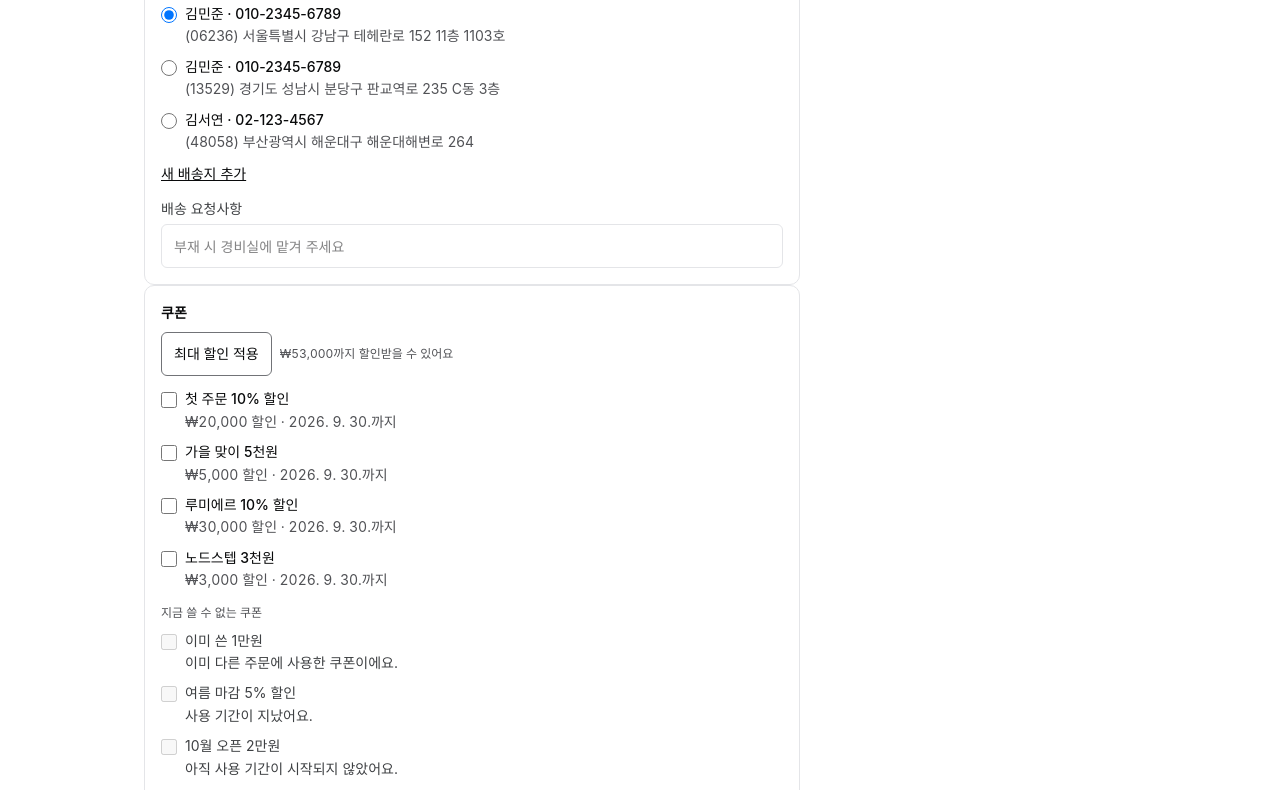
중복 규칙이 화면에서 보인다 › swaps one platform coupon for the other
(page scrolled)
What coordinates should you click on to do the following:
click the checkbox labelled "첫 주문 10% 할인 ₩20,000 할인 · 2026. 9. 30.까지"
I would click on:
 (169, 400)
Its box is [161,392,177,408].
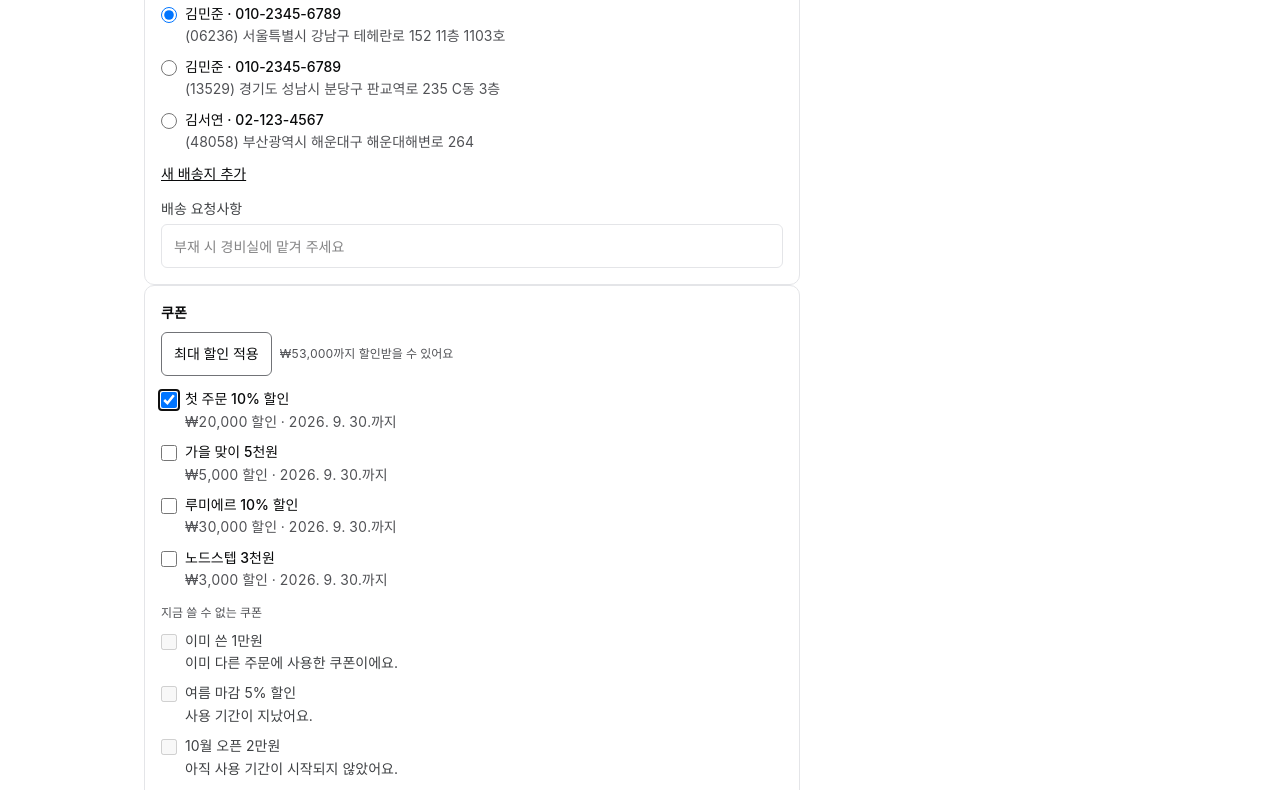
What coordinates should you click on to do the following:
click the checkbox labelled "가을 맞이 5천원 ₩5,000 할인 · 2026. 9. 30.까지"
I would click on:
 (169, 453)
Its box is [161,445,177,461].
(page scrolled)
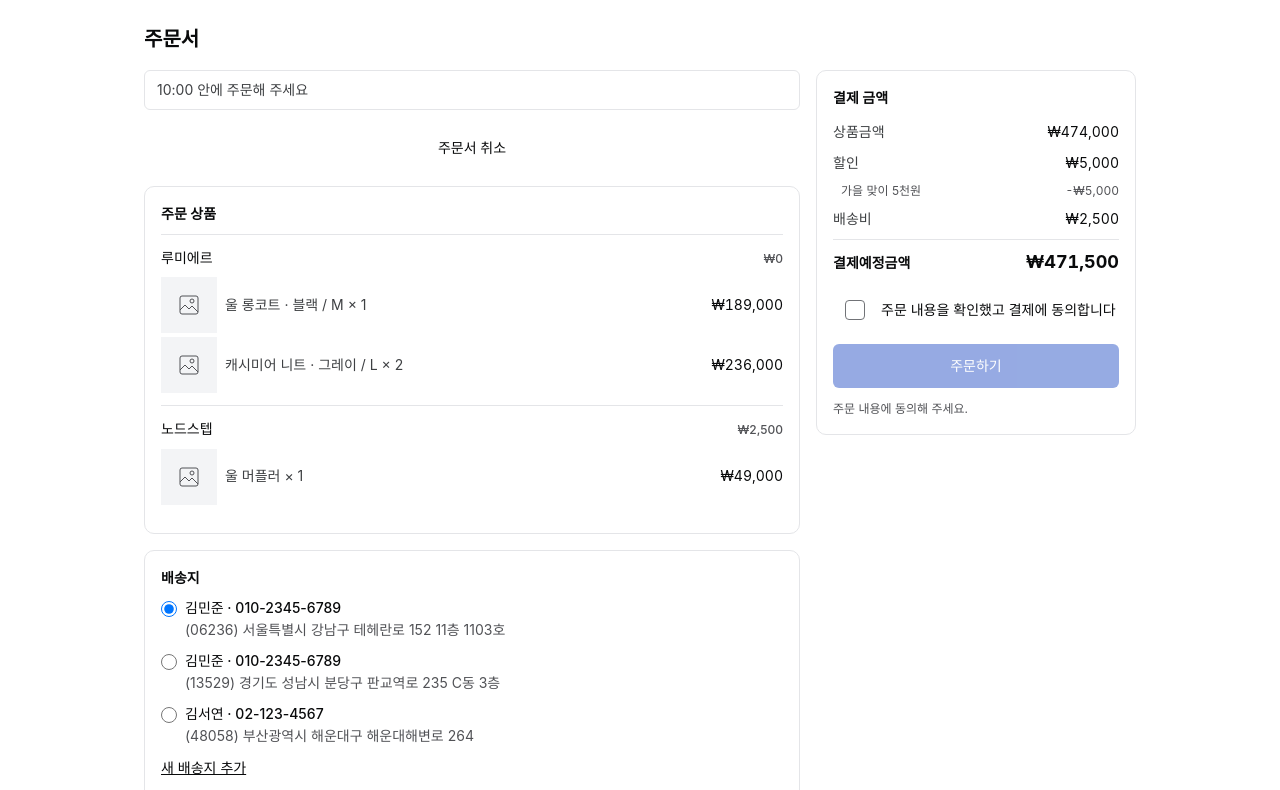
Check: the text "₩471,500" is shown, box [1026,248,1119,276]
